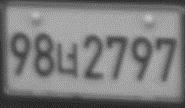2: (82, 33, 105, 79)
7: (155, 36, 178, 84), (106, 34, 127, 81)
8: (33, 32, 55, 76)
9: (131, 35, 153, 83), (8, 32, 31, 76)
너: (56, 41, 79, 79)
